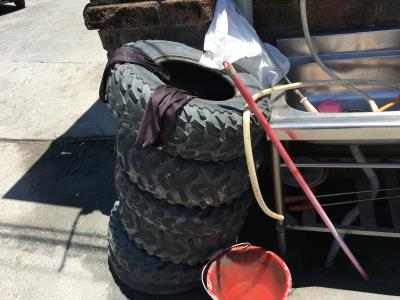bowl: (315, 99, 342, 113)
bucket: (198, 240, 294, 299)
plastic_bag: (201, 1, 291, 90)
tire: (100, 38, 272, 162), (113, 168, 253, 264), (111, 122, 265, 209), (104, 205, 205, 294)
